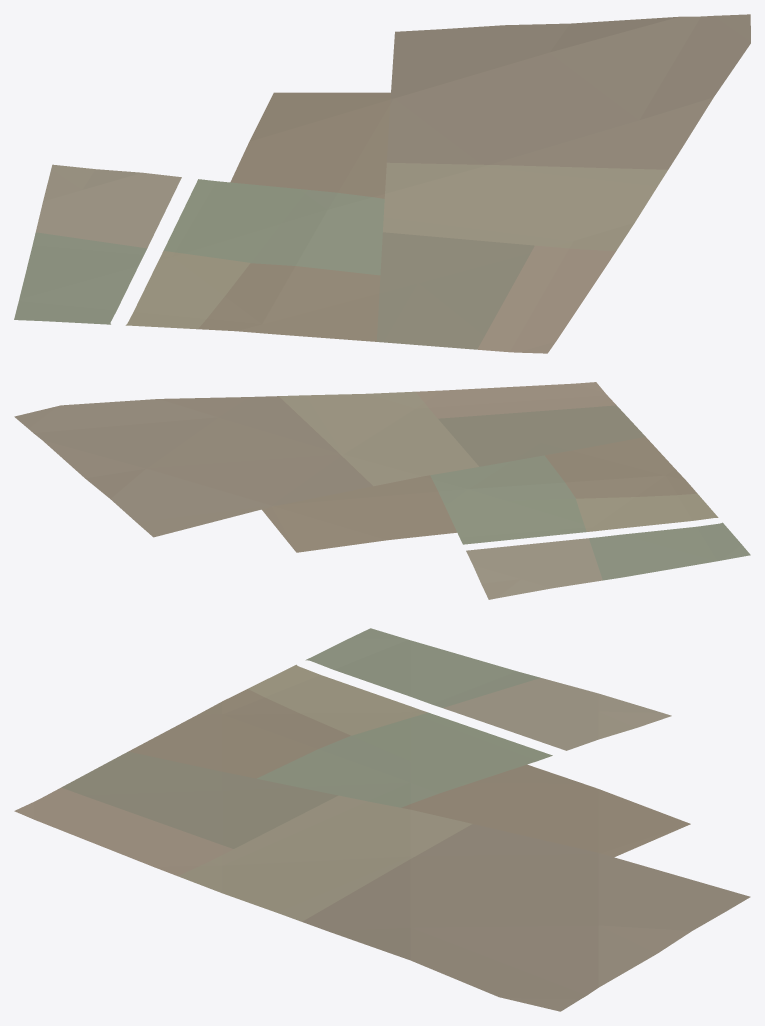
File: farm_-9_8_soil.glb
3 views of the same model, one above another, from view 1: azimuth 30°, elevation 25°; view 2: azimuth 150°, elevation 25°; view 3: azimuth 270°, elevation 25° (orthographic). The views are drawn at different scales.
Parts seen in each view (by area): view 1: geometry_0; view 2: geometry_0; view 3: geometry_0.
Boxes of the visible parts, x1,y1,x2,y2 form: geometry_0: (14,14,750,353); geometry_0: (14,382,750,599); geometry_0: (14,628,750,1011).
Size of the model in its own units: 425 by 18.28 by 313.
